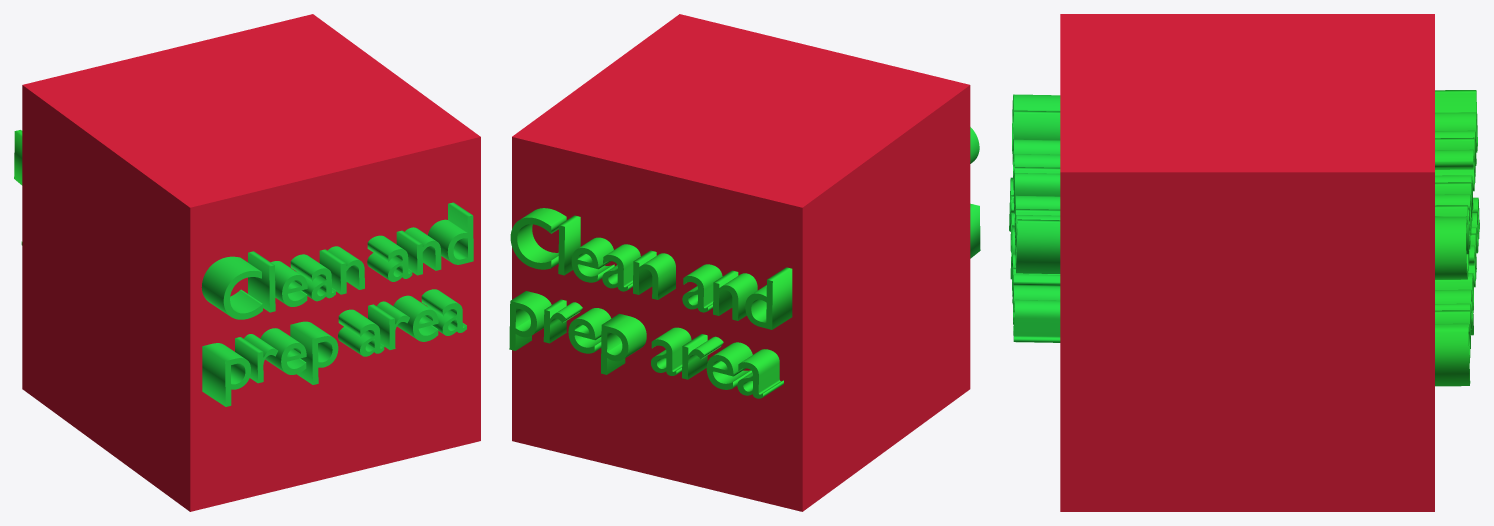
Rendered from cleanandpreparea.glb.
3 views of the same model, side by side, from view 1: azimuth 30°, elevation 25°; view 2: azimuth 150°, elevation 25°; view 3: azimuth 270°, elevation 25° (orthographic). The views are drawn at different scales.
Parts seen in each view (by area): view 1: Cube, Text.001; view 2: Cube, Text.002, Text.001; view 3: Cube, Text.001, Text.002.
Part boxes in pixels (x1=…): Cube: x1=22, y1=14, x2=480, y2=511; Text.001: x1=201, y1=202, x2=473, y2=406; Cube: x1=512, y1=14, x2=970, y2=511; Text.002: x1=509, y1=208, x2=792, y2=398; Text.001: x1=970, y1=127, x2=980, y2=258; Cube: x1=1060, y1=14, x2=1434, y2=511; Text.001: x1=1009, y1=94, x2=1060, y2=342; Text.002: x1=1435, y1=90, x2=1479, y2=386.
Bounding box in the file's own units: 2 × 2 × 2.51.
